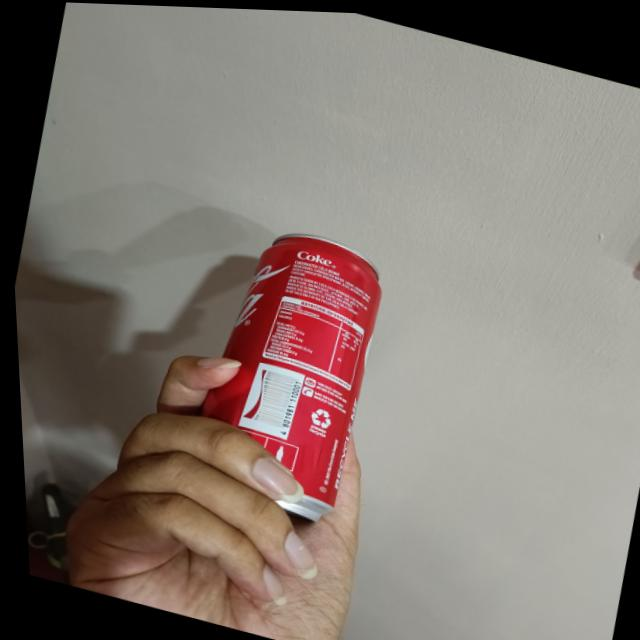coke: (169, 210, 397, 536)
